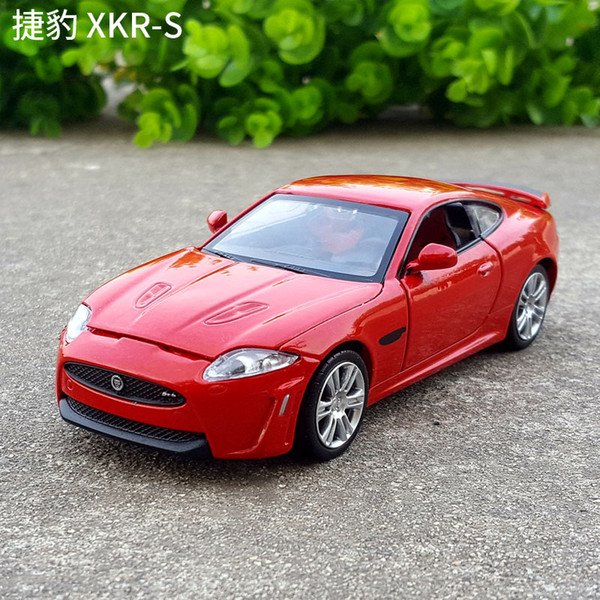ARABA: (54, 171, 563, 476)
